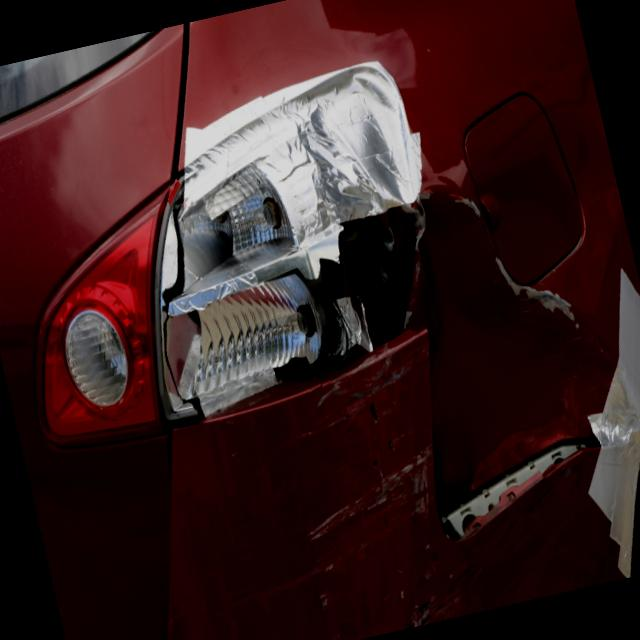Dechirure: (419, 431, 615, 552)
Phare abime: (100, 57, 460, 435)
Rayure: (266, 366, 487, 640), (427, 148, 594, 364)
